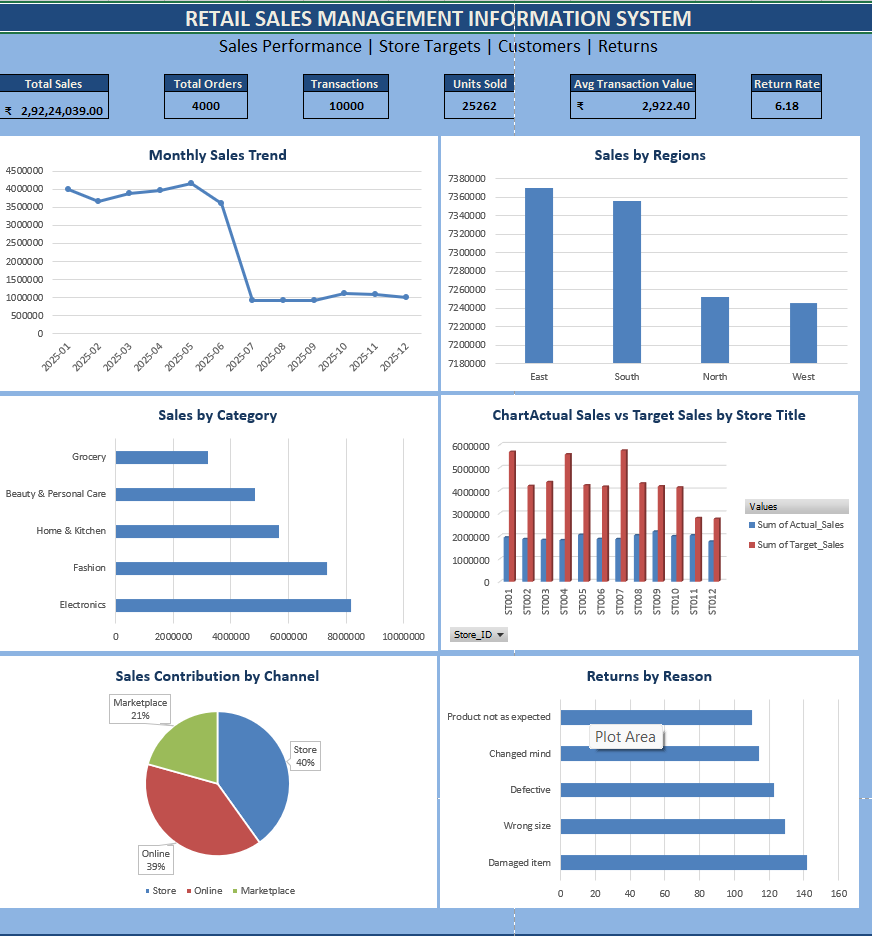

The page's visual inventory and layout, read from the dashboard file:
{"tool":"powerbi","page":{"name":"Page 1","canvas":[1280,720],"ordinal":0},"visuals":[{"type":"cardVisual","fields":{"Data":["Retail_Transactions.Total Sales"]},"box":[115,78.8,178.8,120],"z":0},{"type":"cardVisual","fields":{"Data":["Retail_Transactions.Total Orders"]},"box":[455,78.8,185,120],"z":1000},{"type":"cardVisual","fields":{"Data":["Retail_Transactions.Total Transactions"]},"box":[911.2,78.8,170,120],"z":2000},{"type":"cardVisual","fields":{"Data":["Retail_Transactions.Total Quantity"]},"box":[292.5,78.8,162.5,120],"z":3000},{"type":"cardVisual","fields":{"Data":["Retail_Transactions.Average Transaction Value"]},"box":[640,78.8,271.2,120],"z":4000},{"type":"cardVisual","fields":{"Data":["Returns.Return Rate %"]},"box":[1081.2,78.8,198.8,120],"z":5000},{"type":"lineChart","title":"Monthly Sales Trend","fields":{"Category":["DateTable.Year Month"],"Y":["Retail_Transactions.Total Sales"]},"box":[113.8,198.8,393.8,281.2],"z":6000},{"type":"clusteredColumnChart","title":"Sales by Region","fields":{"Category":["Retail_Transactions.Region"],"Y":["Retail_Transactions.Total Sales"]},"box":[507.5,198.8,452.5,281.2],"z":7000},{"type":"clusteredBarChart","title":"Sales by Category","fields":{"Category":["Products.Category"],"Y":["Retail_Transactions.Total Sales"]},"box":[113.8,480,312.5,240],"z":8000},{"type":"clusteredColumnChart","title":"Actual Sales Vs Target Sales by Store_ID","fields":{"Y":["Sales_Targets.Actual Sales","Sales_Targets.Target Sales"],"Category":["Stores.Store_ID"]},"box":[420,480,470,240],"z":9000},{"type":"donutChart","title":"Sales Contribution by Channel","fields":{"Category":["Retail_Transactions.Sales_Channel"],"Y":["Retail_Transactions.Total Sales"]},"box":[960,198.8,320,281.2],"z":10000},{"type":"clusteredBarChart","title":"Returns by Reason","fields":{"Category":["Returns.Return_Reason"],"Y":["Returns.Total Returns"]},"box":[890,480,390,240],"z":11000},{"type":"listSlicer","fields":{"Values":["DateTable.Year"]},"box":[7.5,78.8,107.5,148.8],"z":12000},{"type":"listSlicer","fields":{"Values":["Retail_Transactions.Region"]},"box":[7.5,227.5,107.5,207.5],"z":13000},{"type":"listSlicer","fields":{"Values":["Retail_Transactions.Sales_Channel"]},"box":[7.5,435,106.2,285],"z":14000},{"type":"textbox","box":[7.5,0,1272.5,78.8],"z":15000}]}

Visuals, with their boxes on the page's 1280x720 design canvas (x1, y1, x2, y2). These are canvas units, not pixel positions in the 872x936 screenshot, which may show the page scaled, cropped or inside an application window:
cardVisual - Retail_Transactions.Total Sales: detection(115, 79, 294, 199)
cardVisual - Retail_Transactions.Total Orders: detection(455, 79, 640, 199)
cardVisual - Retail_Transactions.Total Transactions: detection(911, 79, 1081, 199)
cardVisual - Retail_Transactions.Total Quantity: detection(292, 79, 455, 199)
cardVisual - Retail_Transactions.Average Transaction Value: detection(640, 79, 911, 199)
cardVisual - Returns.Return Rate %: detection(1081, 79, 1280, 199)
"Monthly Sales Trend" lineChart: detection(114, 199, 508, 480)
"Sales by Region" clusteredColumnChart: detection(508, 199, 960, 480)
"Sales by Category" clusteredBarChart: detection(114, 480, 426, 720)
"Actual Sales Vs Target Sales by Store_ID" clusteredColumnChart: detection(420, 480, 890, 720)
"Sales Contribution by Channel" donutChart: detection(960, 199, 1280, 480)
"Returns by Reason" clusteredBarChart: detection(890, 480, 1280, 720)
listSlicer - DateTable.Year: detection(8, 79, 115, 228)
listSlicer - Retail_Transactions.Region: detection(8, 228, 115, 435)
listSlicer - Retail_Transactions.Sales_Channel: detection(8, 435, 114, 720)
textbox: detection(8, 0, 1280, 79)
